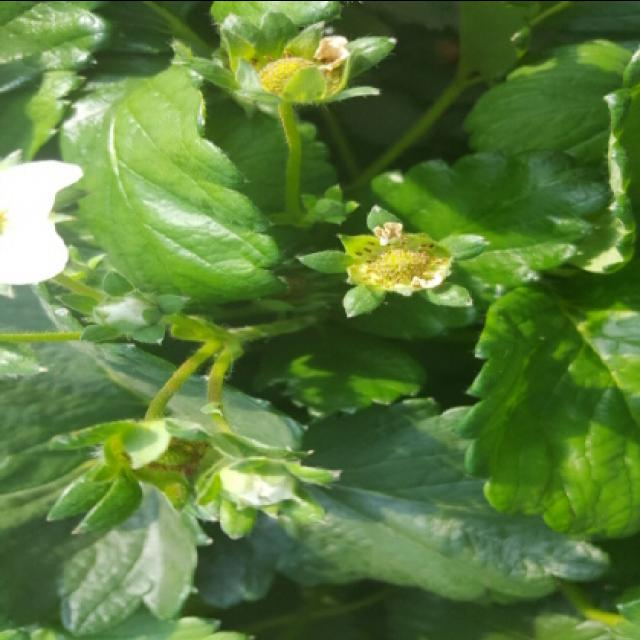Blossom Blight: (353, 221, 451, 295)
